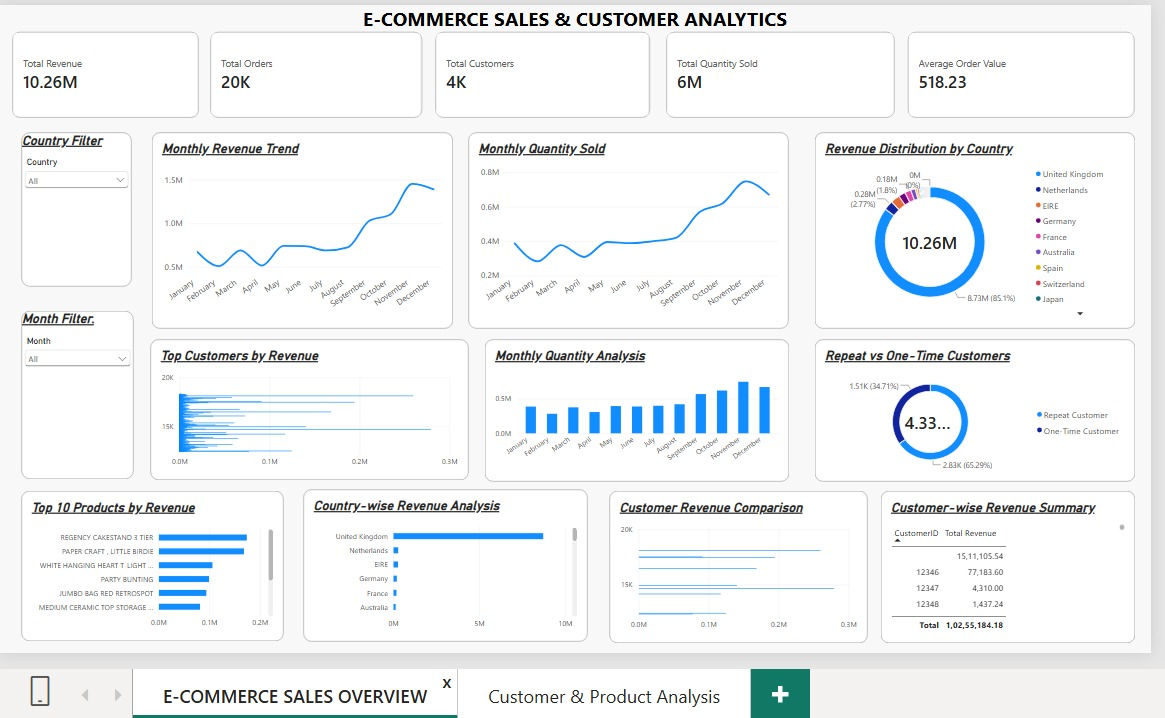

Layout of this report page (visuals, bound fields, positions):
{"tool":"powerbi","page":{"name":"E-COMMERCE SALES OVERVIEW","canvas":[1920,1080],"ordinal":0},"visuals":[{"type":"cardVisual","fields":{"Data":["ecommerce_sales_cleaned_20.Total Revenue"]},"box":[22.5,45,310,142.5],"z":0},{"type":"cardVisual","fields":{"Data":["ecommerce_sales_cleaned_20.Total Orders"]},"box":[352.5,45,352.5,142.5],"z":1},{"type":"cardVisual","fields":{"Data":["ecommerce_sales_cleaned_20.Total Customers"]},"box":[727.5,45,357.5,142.5],"z":2},{"type":"cardVisual","fields":{"Data":["ecommerce_sales_cleaned_20.Total Quantity Sold"]},"box":[1112.5,45,380,142.5],"z":3},{"type":"cardVisual","fields":{"Data":["ecommerce_sales_cleaned_20.Average Order Value"]},"box":[1515,45,377.5,142.5],"z":4},{"type":"lineChart","title":"Monthly Revenue Trend","fields":{"Category":["ecommerce_sales_cleaned_20.Month.Variation.Date Hierarchy.Month"],"Y":["Sum(ecommerce_sales_cleaned_20.Revenue)"]},"box":[255.3,212.3,501,326.9],"z":5},{"type":"lineChart","title":"Monthly Quantity Sold","fields":{"Category":["ecommerce_sales_cleaned_20.Month.Variation.Date Hierarchy.Month"],"Y":["Sum(ecommerce_sales_cleaned_20.Quantity)"]},"box":[783.3,213.3,533.3,326.7],"z":8},{"type":"donutChart","title":"Revenue Distribution by Country","fields":{"Category":["ecommerce_sales_cleaned_20.Country"],"Y":["Sum(ecommerce_sales_cleaned_20.Revenue)"]},"box":[1360,213.3,533.3,326.7],"z":11},{"type":"clusteredColumnChart","title":"Monthly Quantity Analysis","fields":{"Category":["ecommerce_sales_cleaned_20.Month.Variation.Date Hierarchy.Month"],"Y":["Sum(ecommerce_sales_cleaned_20.Quantity)"]},"box":[810,556.7,506.7,236.7],"z":12},{"type":"tableEx","title":"Customer-wise Revenue Summary","fields":{"Values":["ecommerce_sales_cleaned_20.CustomerID","ecommerce_sales_cleaned_20.Total Revenue"]},"box":[1470,810,423.3,253.3],"z":13},{"type":"clusteredBarChart","title":"Top Customers by Revenue","fields":{"Category":["ecommerce_sales_cleaned_20.CustomerID"],"Y":["ecommerce_sales_cleaned_20.Total Revenue"]},"box":[252.9,558.3,529.7,233.8],"z":14},{"type":"donutChart","title":"Repeat vs One-Time Customers","fields":{"Category":["ecommerce_sales_cleaned_20.Customer Type"],"Y":["Count(ecommerce_sales_cleaned_20.CustomerID)"]},"box":[1360,556.7,533.3,236.7],"z":15},{"type":"clusteredBarChart","title":"Customer Revenue Comparison","fields":{"Category":["ecommerce_sales_cleaned_20.CustomerID"],"Y":["ecommerce_sales_cleaned_20.Total Revenue"]},"box":[1016.7,810,430,253.3],"z":16},{"type":"clusteredBarChart","title":"Top 10 Products by Revenue","fields":{"Category":["ecommerce_sales_cleaned_20.Description"],"Y":["Sum(ecommerce_sales_cleaned_20.Revenue)"]},"box":[36.7,810,436.7,250],"z":17},{"type":"clusteredBarChart","title":"Country-wise Revenue Analysis","fields":{"Category":["ecommerce_sales_cleaned_20.Country"],"Y":["ecommerce_sales_cleaned_20.Total Revenue"]},"box":[506.7,806.7,473.3,253.3],"z":18},{"type":"textbox","box":[0,0,1920,90],"z":20},{"type":"slicer","title":"Country Filter","fields":{"Values":["ecommerce_sales_cleaned_20.Country"]},"box":[36.7,213.3,183.3,256.7],"z":21},{"type":"slicer","title":"Month Filter.","fields":{"Values":["ecommerce_sales_cleaned_20.Month"]},"box":[36.7,510,186.7,280],"z":22}]}

Visuals, with their boxes on the page's 1920x1080 design canvas (x1, y1, x2, y2). These are canvas units, not pixel positions in the 1165x718 screenshot, which may show the page scaled, cropped or inside an application window:
cardVisual - ecommerce_sales_cleaned_20.Total Revenue: locate(22, 45, 332, 188)
cardVisual - ecommerce_sales_cleaned_20.Total Orders: locate(352, 45, 705, 188)
cardVisual - ecommerce_sales_cleaned_20.Total Customers: locate(728, 45, 1085, 188)
cardVisual - ecommerce_sales_cleaned_20.Total Quantity Sold: locate(1112, 45, 1492, 188)
cardVisual - ecommerce_sales_cleaned_20.Average Order Value: locate(1515, 45, 1892, 188)
"Monthly Revenue Trend" lineChart: locate(255, 212, 756, 539)
"Monthly Quantity Sold" lineChart: locate(783, 213, 1317, 540)
"Revenue Distribution by Country" donutChart: locate(1360, 213, 1893, 540)
"Monthly Quantity Analysis" clusteredColumnChart: locate(810, 557, 1317, 793)
"Customer-wise Revenue Summary" tableEx: locate(1470, 810, 1893, 1063)
"Top Customers by Revenue" clusteredBarChart: locate(253, 558, 783, 792)
"Repeat vs One-Time Customers" donutChart: locate(1360, 557, 1893, 793)
"Customer Revenue Comparison" clusteredBarChart: locate(1017, 810, 1447, 1063)
"Top 10 Products by Revenue" clusteredBarChart: locate(37, 810, 473, 1060)
"Country-wise Revenue Analysis" clusteredBarChart: locate(507, 807, 980, 1060)
textbox: locate(0, 0, 1920, 90)
"Country Filter" slicer: locate(37, 213, 220, 470)
"Month Filter." slicer: locate(37, 510, 223, 790)
